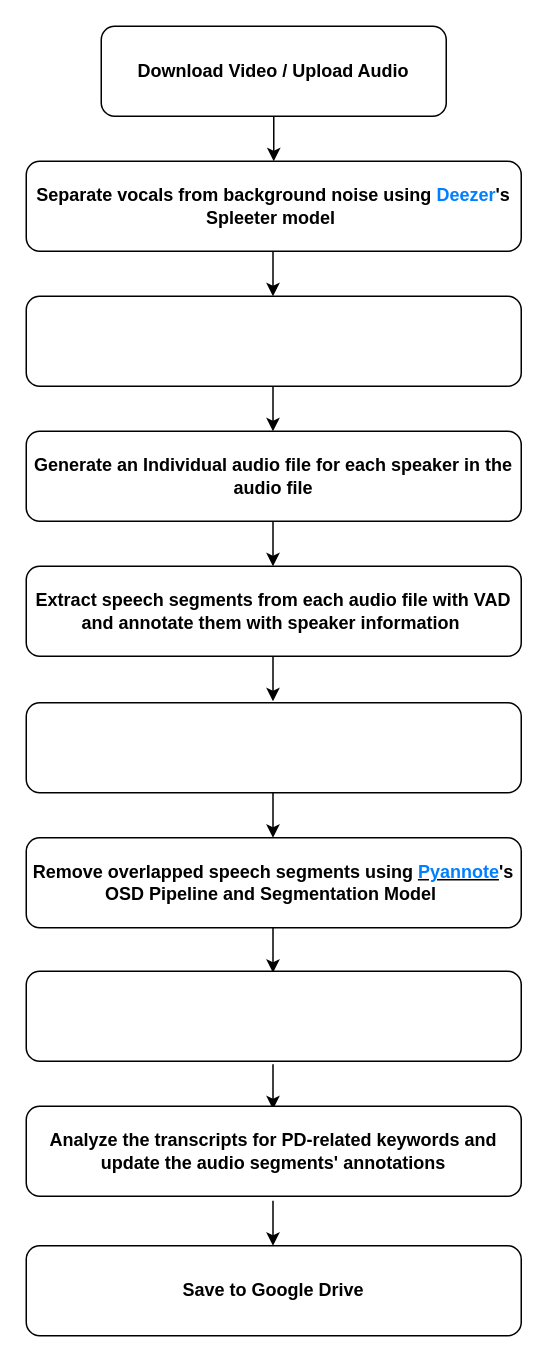
Some shapes in this 548 by 1362 pixel diagram are drawn without their labels. Here are the shapes that lost their labels. From the top down, the box of each, then its label:
(25, 295, 521, 386): Diarize audio file using Pyannote 's diarization model
(25, 701, 521, 793): Split audio files into 20 second segments
(25, 970, 521, 1061): Transcribe the cleaned audio segments using Open AI 's Whisper Model
